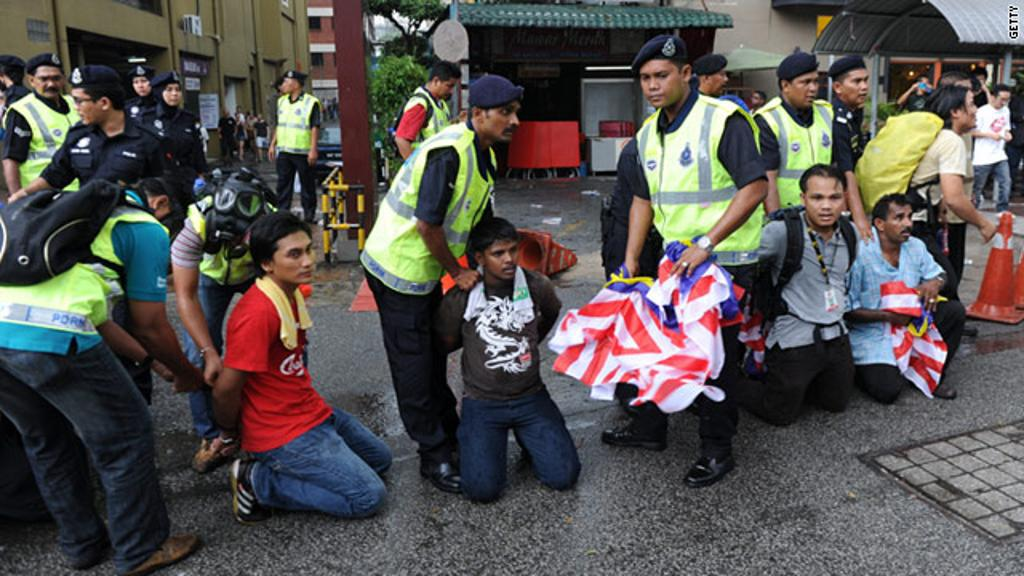face: (640, 59, 682, 107), (274, 238, 315, 284), (482, 98, 521, 142), (805, 182, 844, 226), (485, 241, 519, 279), (789, 69, 820, 107), (72, 91, 103, 123), (841, 71, 870, 104), (885, 209, 913, 243), (35, 69, 63, 98), (958, 94, 977, 128), (707, 67, 729, 95), (161, 84, 182, 106), (133, 76, 152, 96), (437, 80, 457, 97), (996, 93, 1010, 108), (282, 79, 294, 93), (752, 94, 762, 106)
